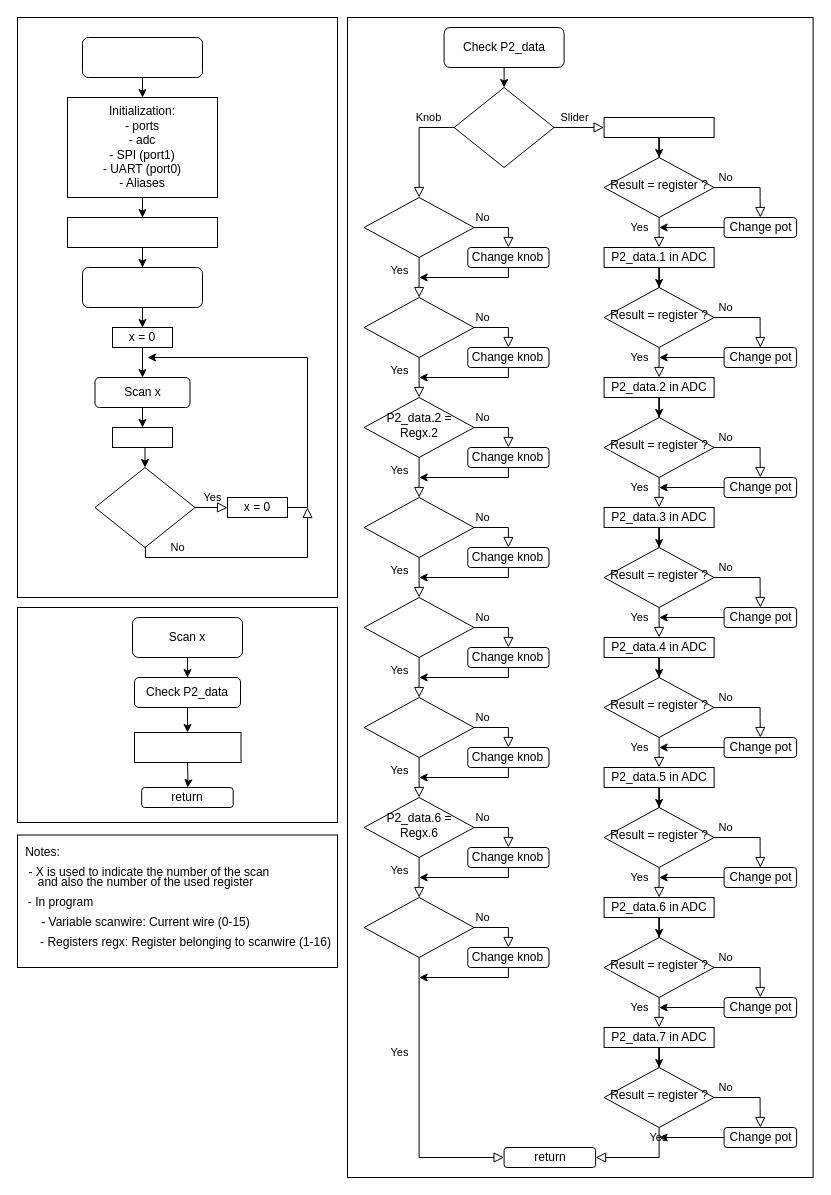
The diagram is 831 pixels wide and 1195 high, and some of its shapes have lost their labels. Here are the shapes that lost their labels. From the top down, the centre of each, then its label:
pixel 142 57: Start program
pixel 503 127: Knob or slider used ?
pixel 658 127: P2_data.0 in ADC
pixel 142 232: Reset all values
pixel 418 227: P2_data.0 = Regx.0
pixel 142 287: Start loop
pixel 418 327: P2_data.1 = Regx.1
pixel 142 437: x = x + 1
pixel 144 507: x ?= 16
pixel 418 527: P2_data.3 = Regx.3
pixel 418 627: P2_data.4 = Regx.4
pixel 187 747: Reg x to leds
pixel 418 727: P2_data.5 = Regx.5
pixel 418 927: P2_data.7 = Regx.7
